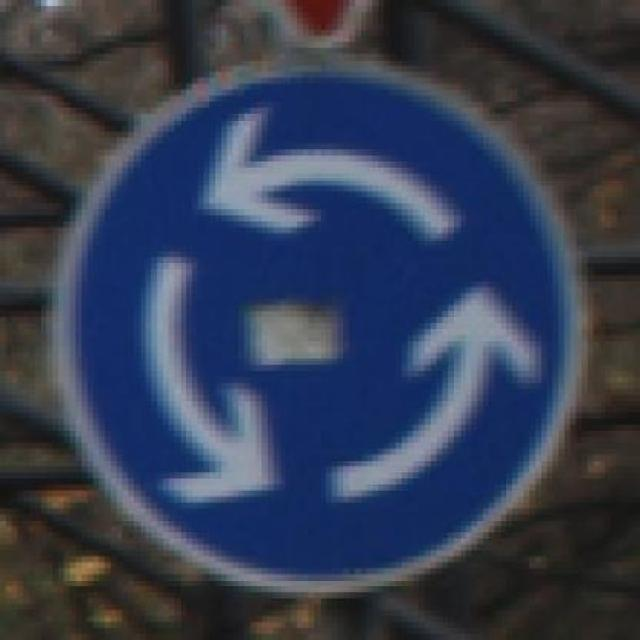Round-About: (52, 41, 600, 604)
